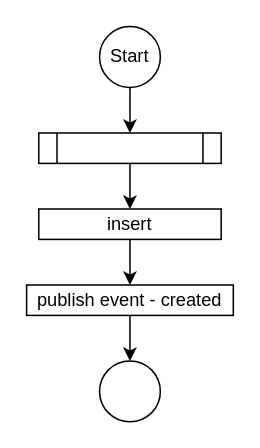
Image size: 260x448. Some labels were removed from this diagram. The centre of each missing label's shape, as x and y in pixels:
"End" belongs at pixel 129 390.
"validate" belongs at pixel 129 147.
